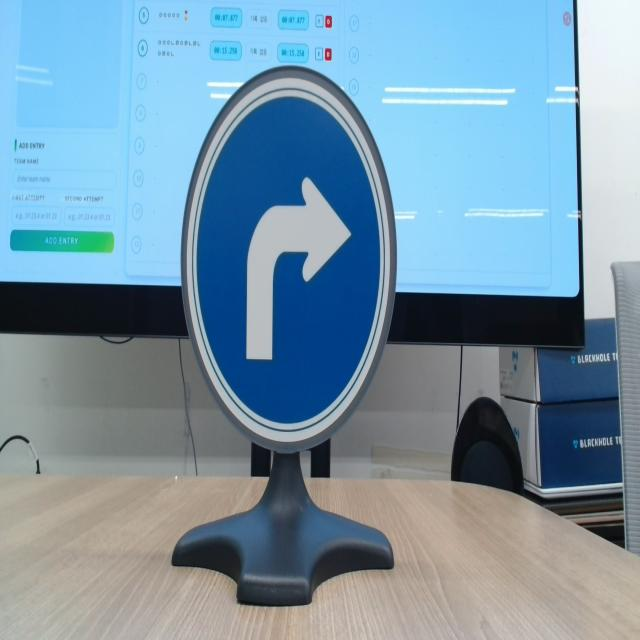right_dierection: (170, 36, 416, 480)
